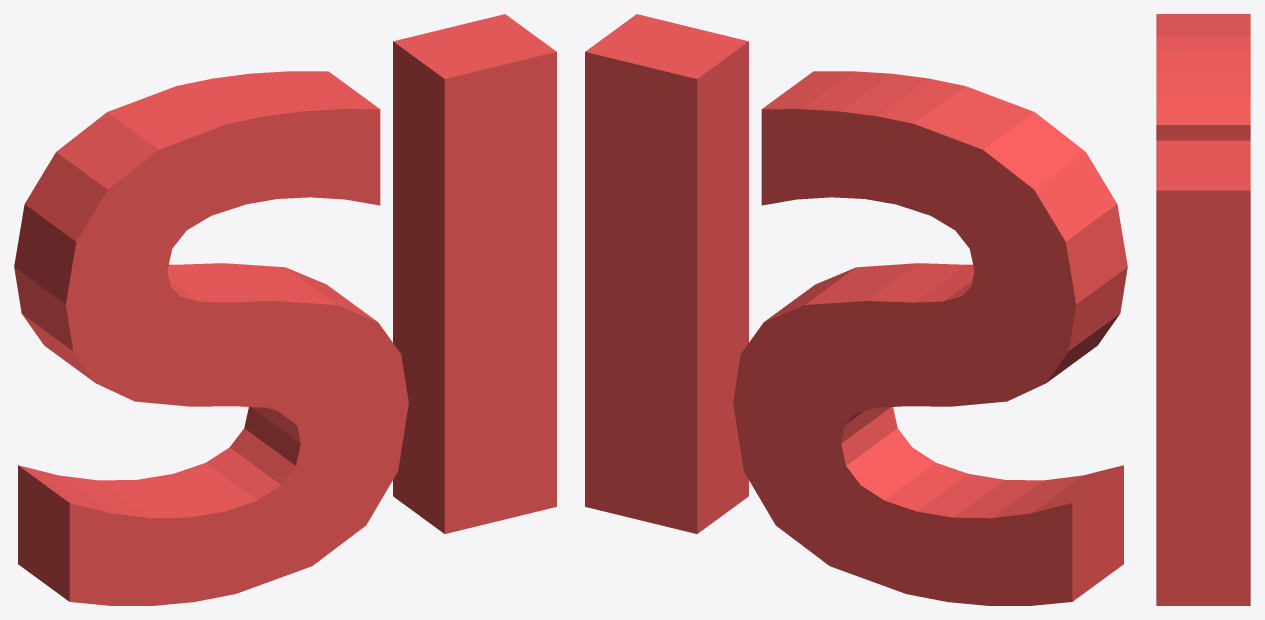
The model's file is suku_besar_si.glb.
3 renders of one model, left to right at view 1: azimuth 30°, elevation 25°; view 2: azimuth 150°, elevation 25°; view 3: azimuth 270°, elevation 25°, orthographic. The views are drawn at different scales.
Visible parts, largest first — view 1: geometry_0; view 2: geometry_0; view 3: geometry_0.
Boxes of the visible parts, left/top/right/bottom form: geometry_0: left=14, top=14, right=556, bottom=605; geometry_0: left=585, top=14, right=1127, bottom=605; geometry_0: left=1156, top=14, right=1250, bottom=605.
Size of the model in its own units: 8.23 by 7.56 by 1.5.
